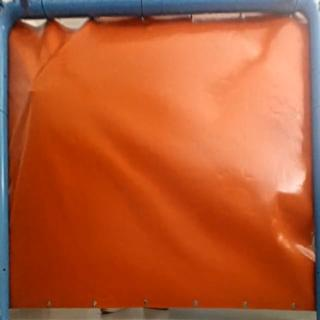Hit-hRxx: (24, 85, 38, 99)
